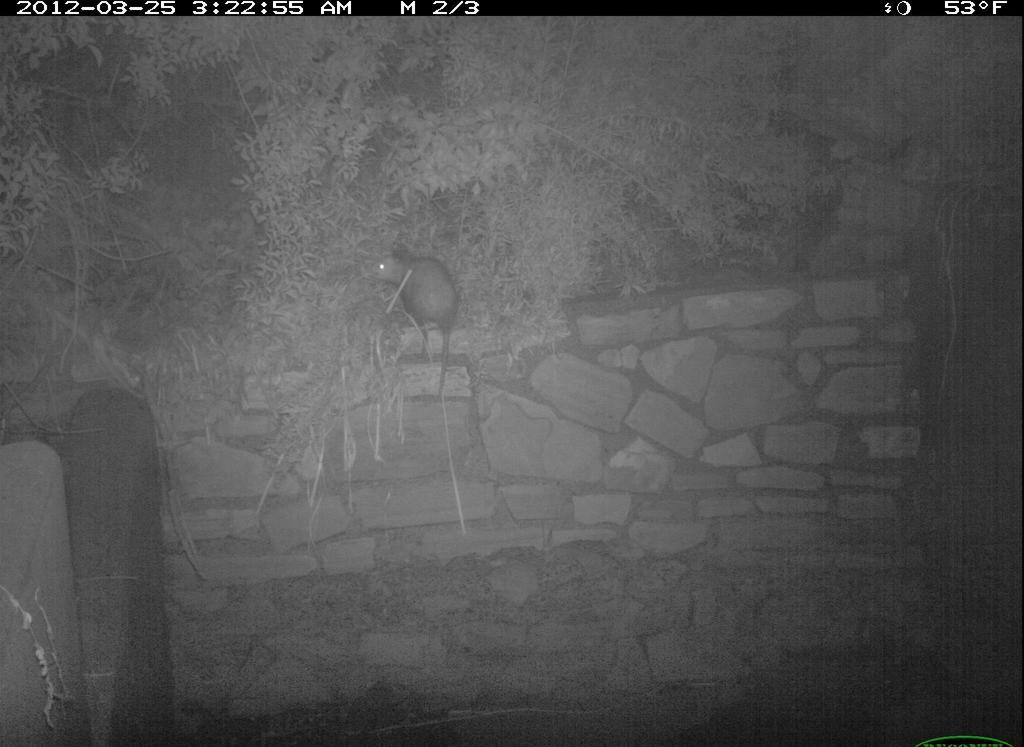opossum: (367, 228, 478, 418)
